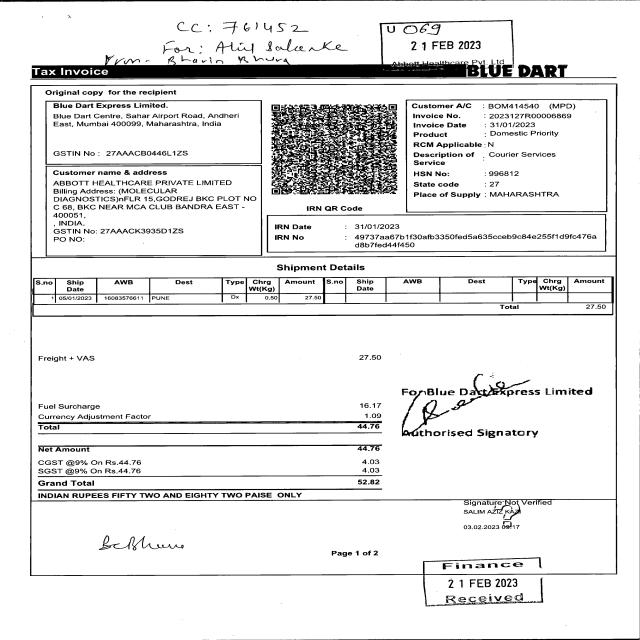QRCode: (269, 102, 400, 197)
